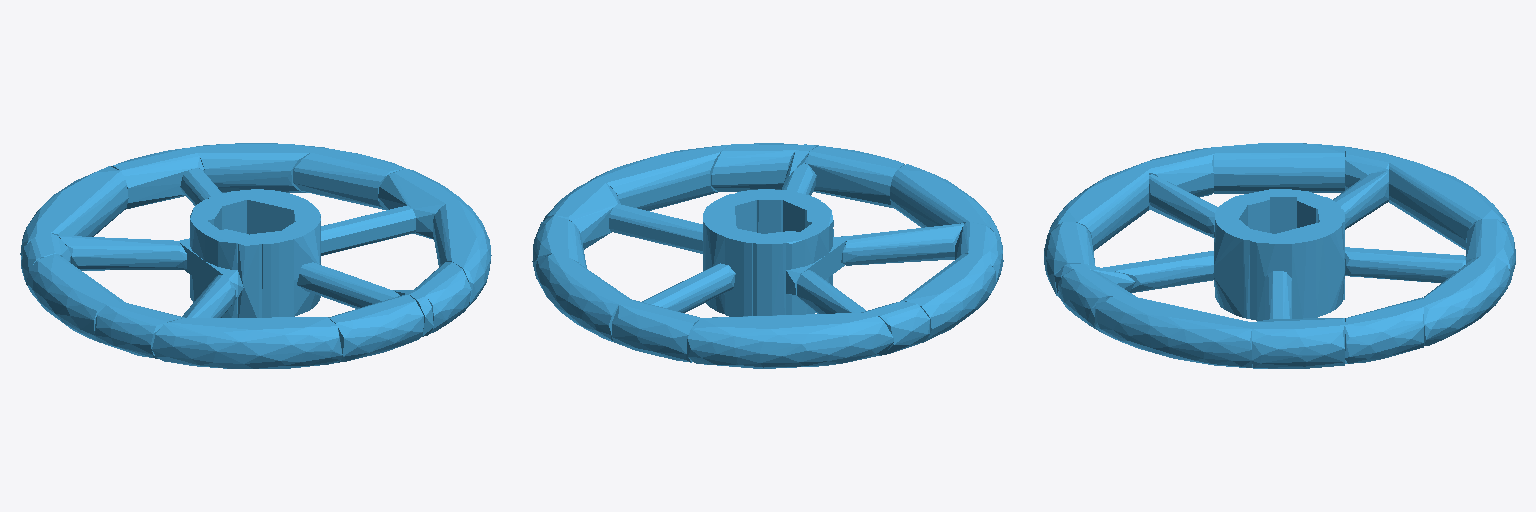
URDF robot description (handwheel_valve):
<?xml version="1.0" ?>
<robot name="handwheel_valve">
   <link name="valve_base">
      <inertial>
        <mass value="1E-6" />
        <origin xyz="0.0 0.0 0.0" />
        <inertia ixx = "1E-6" ixy = "0.0" ixz = "0.0"
                iyx = "0.0" iyy = "1E-6" iyz = "0.0"
                izx = "0.0" izy = "0.0" izz = "1E-6" />
        </inertial>
    </link>


   <link name="valve">
    <contact>
      <friction_anchor/>
      <stiffness value="30000.0"/>
      <damping value="1000.0"/>
      <spinning_friction value="0.1"/>
      <lateral_friction value="1.0"/>
    </contact>
   <inertial>
      <mass value="1.0" />
<!--       Inertia of a torus radius = 0.12 and cross section radius 0.02-->
      <origin xyz="0.0 0.0 0.0" />
       <inertia ixx = "0.00745" ixy = "0.0" ixz = "0.0"
                iyx = "0.0" iyy = "0.0147" iyz = "0.0"
                izx = "0.0" izy = "0.0" izz = "0.00745" />
    </inertial>
    <collision name="collision">
      <geometry>
        <mesh filename="meshes/simple_valve_decomposed.obj" scale="0.005 0.005 0.005"/>
      </geometry>
    </collision>
    <visual name="visual">
      <geometry>
        <mesh filename="meshes/simple_valve_decomposed.obj" scale="0.005 0.005 0.005"/>
      </geometry>
    </visual>
  </link>

  <joint name="valve_joint" type="continuous">
    <origin xyz="0 0 0" rpy="-1.57 0 0"/>
    <axis xyz="0 1 0" rpy="0 0 0"/>
    <parent link="valve_base"/>
    <child link="valve"/>
    <dynamics damping="1.0" friction="10.0"/>
    <!-- <limit effort="30" velocity="1.0" lower="-3.14" upper="3.14"/> -->
   </joint>
</robot>

--- Facts derived from the render (not from the file) ---
3 views of the same robot in one strip: view 1: azimuth 30°, elevation 25°; view 2: azimuth 150°, elevation 25°; view 3: azimuth 270°, elevation 25° (orthographic).
Robot: handwheel_valve — 2 links, 1 joints (1 continuous); root link valve_base; default pose: every joint at zero.
Links seen in each view (by area): view 1: valve; view 2: valve; view 3: valve.
Link boxes in pixels (bbox=[...]): valve: bbox=[20, 143, 491, 368]; valve: bbox=[532, 143, 1003, 368]; valve: bbox=[1044, 143, 1515, 368].
Size in the robot's own frame: 0.276 by 0.276 by 0.0506 metres.
Meshes: 1 distinct files referenced, 1 mesh visuals loaded (1 OBJ).